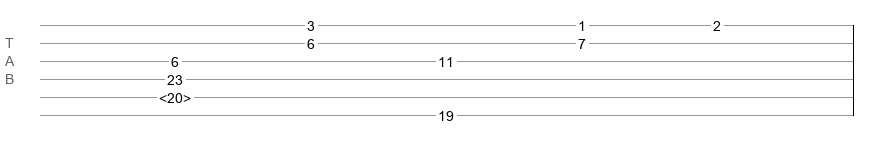1: (578, 18, 586, 28)
11: (438, 54, 454, 64)
19: (438, 108, 454, 118)
2: (713, 18, 721, 28)
23: (167, 72, 183, 82)
3: (307, 18, 315, 28)
6: (171, 54, 179, 64), (307, 36, 315, 46)
7: (578, 36, 586, 46)
harmonic: (159, 90, 191, 100)
